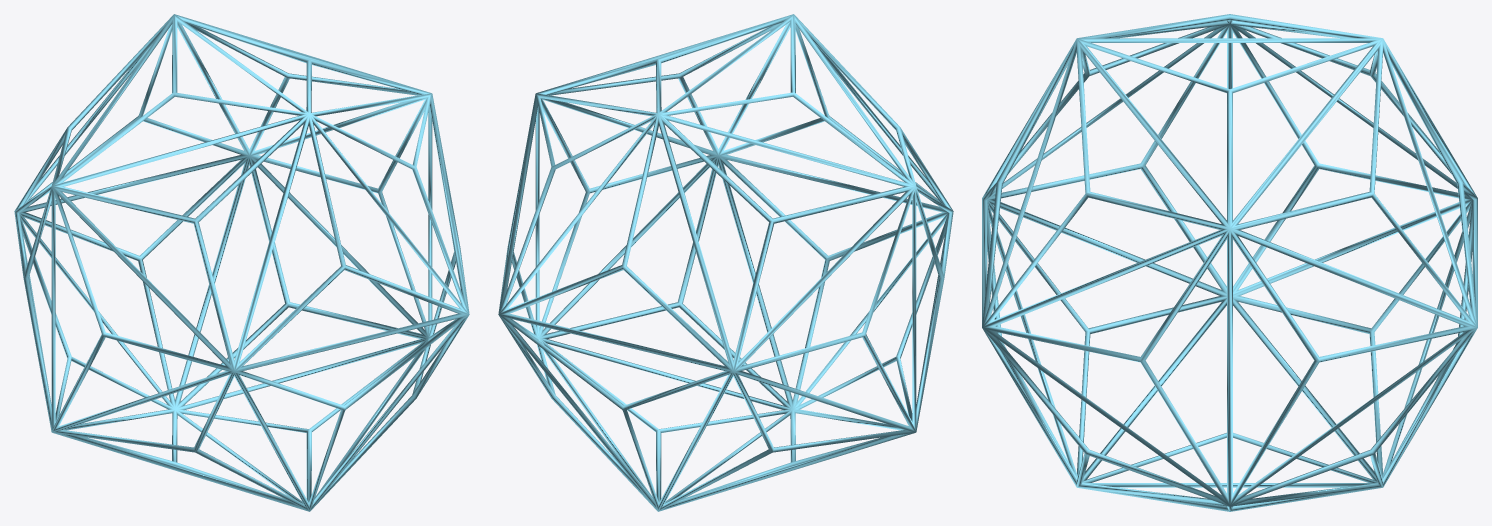
The model's file is TriakisIcosahedron1.glb.
3 renders of one model, left to right at view 1: azimuth 30°, elevation 25°; view 2: azimuth 150°, elevation 25°; view 3: azimuth 270°, elevation 25°, orthographic. The views are drawn at different scales.
Parts seen in each view (by area): view 1: TriakisIcosahedron; view 2: TriakisIcosahedron; view 3: TriakisIcosahedron.
Part boxes in pixels (<box>): TriakisIcosahedron: <box>14,14,469,511</box>; TriakisIcosahedron: <box>498,14,953,511</box>; TriakisIcosahedron: <box>982,14,1477,511</box>.
Size of the model in its own units: 5.92 by 5.92 by 5.92.
